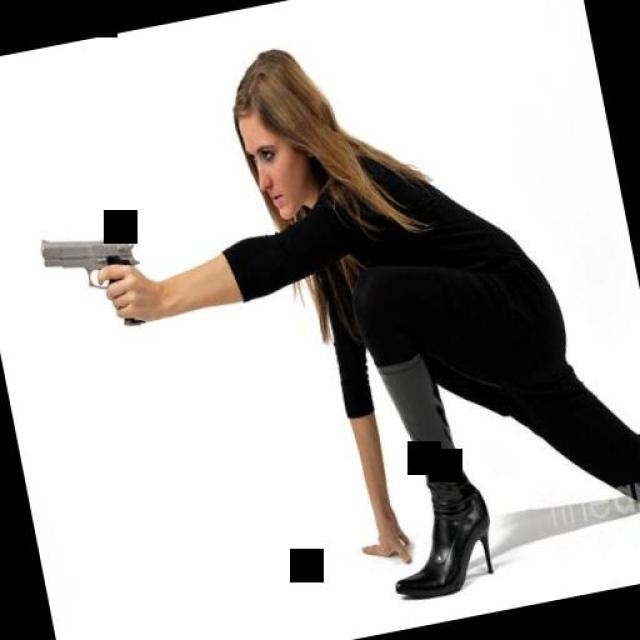gun: (35, 216, 150, 345)
